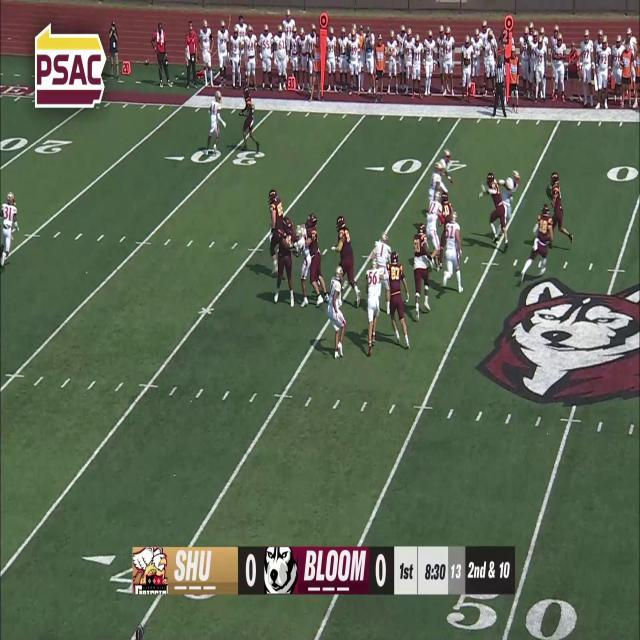football: (546, 185, 552, 194)
